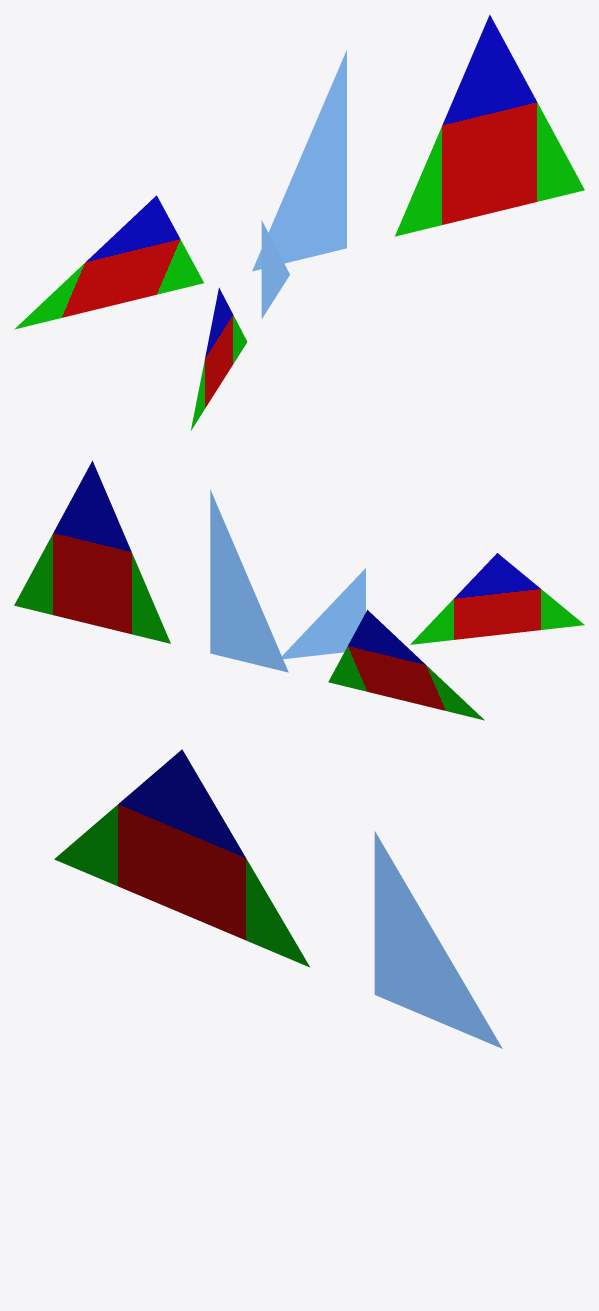
Rendered from ShearedNode.glb.
The picture shows the model from 3 angles, top to bottom: view 1: azimuth 30°, elevation 25°; view 2: azimuth 150°, elevation 25°; view 3: azimuth 270°, elevation 25°; orthographic projection. The views are drawn at different scales.
Visible parts, largest first — view 1: Instance mirrored and nonuniform, Instance identity, Instance rotated; view 2: Instance mirrored and nonuniform, Instance rotated, Instance identity; view 3: Instance rotated.
Boxes of the visible parts, x1,y1,x2,y2 form: Instance mirrored and nonuniform: [253, 14, 584, 270]; Instance identity: [14, 161, 346, 329]; Instance rotated: [191, 220, 289, 430]; Instance mirrored and nonuniform: [14, 460, 287, 671]; Instance rotated: [282, 553, 584, 659]; Instance identity: [210, 581, 484, 720]; Instance rotated: [54, 749, 502, 1048].
Size of the model in its own units: 6 by 2 by 2.71.
Materials: 2 (1 with a texture image).
